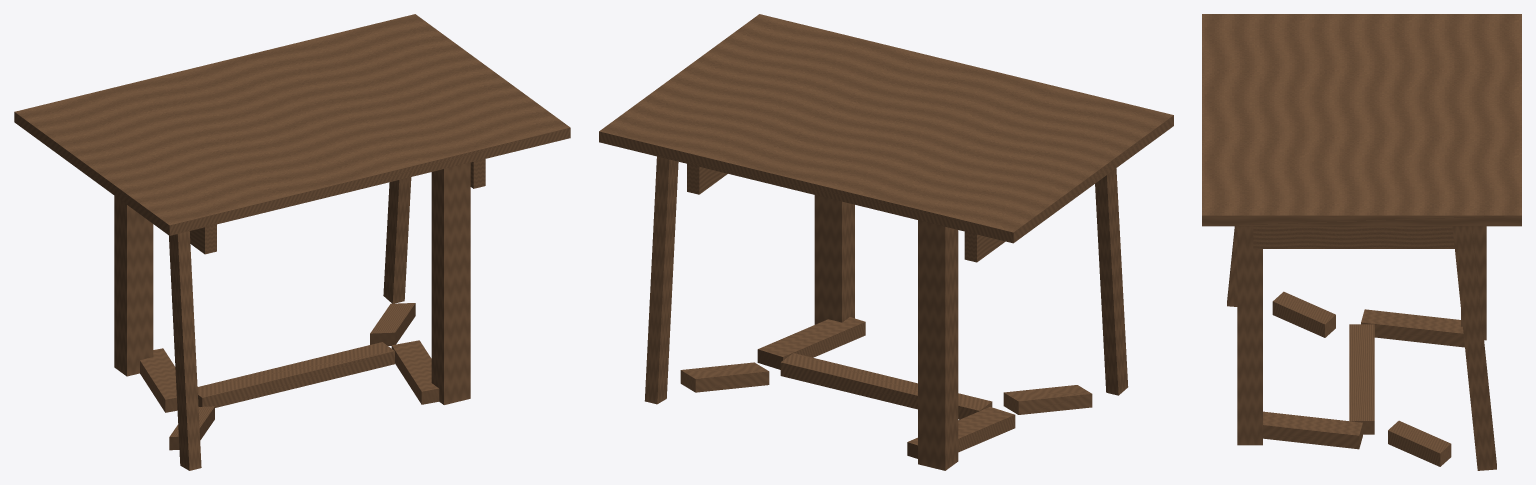
3 renders of one model, left to right at view 1: azimuth 30°, elevation 25°; view 2: azimuth 150°, elevation 25°; view 3: azimuth 270°, elevation 25°, orthographic. The views are drawn at different scales.
Parts seen in each view (by area): view 1: 1 tabletop, 8 right_front_vertical_leg, 4 left_back_vertical_leg, 3 left_front_angled_leg, 2 center_bottom_stretcher, 9 right_back_angled_leg, 11 right_front_bottom_arm, 7 left_back_bottom_arm, 12 right_back_bottom_arm, 5 left_top_crossbar, 6 left_front_bottom_arm; view 2: 1 tabletop, 4 left_back_vertical_leg, 9 right_back_angled_leg, 3 left_front_angled_leg, 8 right_front_vertical_leg, 2 center_bottom_stretcher, 11 right_front_bottom_arm, 12 right_back_bottom_arm, 6 left_front_bottom_arm, 7 left_back_bottom_arm, 5 left_top_crossbar, 10 right_top_crossbar; view 3: 1 tabletop, 8 right_front_vertical_leg, 9 right_back_angled_leg, 10 right_top_crossbar, 11 right_front_bottom_arm, 2 center_bottom_stretcher, 7 left_back_bottom_arm, 6 left_front_bottom_arm, 12 right_back_bottom_arm, 4 left_back_vertical_leg, 3 left_front_angled_leg.
Boxes of the visible parts, x1,y1,x2,y2 form: 1 tabletop: [14, 14, 570, 235]; 8 right_front_vertical_leg: [431, 162, 470, 404]; 4 left_back_vertical_leg: [114, 196, 153, 376]; 3 left_front_angled_leg: [169, 231, 201, 470]; 2 center_bottom_stretcher: [197, 342, 394, 407]; 9 right_back_angled_leg: [383, 177, 411, 303]; 11 right_front_bottom_arm: [391, 340, 439, 404]; 7 left_back_bottom_arm: [140, 348, 177, 412]; 12 right_back_bottom_arm: [370, 303, 415, 345]; 5 left_top_crossbar: [189, 224, 216, 254]; 6 left_front_bottom_arm: [169, 406, 214, 450]; 1 tabletop: [599, 14, 1173, 243]; 4 left_back_vertical_leg: [918, 220, 958, 470]; 9 right_back_angled_leg: [644, 156, 678, 404]; 3 left_front_angled_leg: [1095, 168, 1128, 395]; 8 right_front_vertical_leg: [814, 195, 854, 324]; 2 center_bottom_stretcher: [780, 353, 992, 419]; 11 right_front_bottom_arm: [757, 317, 865, 369]; 12 right_back_bottom_arm: [680, 362, 769, 392]; 6 left_front_bottom_arm: [1003, 385, 1092, 414]; 7 left_back_bottom_arm: [907, 407, 1015, 458]; 5 left_top_crossbar: [964, 231, 1005, 262]; 10 right_top_crossbar: [687, 164, 727, 194]; 1 tabletop: [1202, 14, 1521, 226]; 8 right_front_vertical_leg: [1237, 226, 1262, 445]; 9 right_back_angled_leg: [1452, 226, 1496, 470]; 10 right_top_crossbar: [1253, 226, 1454, 248]; 11 right_front_bottom_arm: [1263, 411, 1362, 449]; 2 center_bottom_stretcher: [1349, 324, 1374, 434]; 7 left_back_bottom_arm: [1361, 309, 1464, 347]; 6 left_front_bottom_arm: [1272, 291, 1335, 337]; 12 right_back_bottom_arm: [1388, 420, 1451, 466]; 4 left_back_vertical_leg: [1461, 226, 1486, 340]; 3 left_front_angled_leg: [1227, 226, 1237, 306].
Size of the model in its own units: 1.19 by 0.7501 by 0.8004.
1 material, 1 textured.
